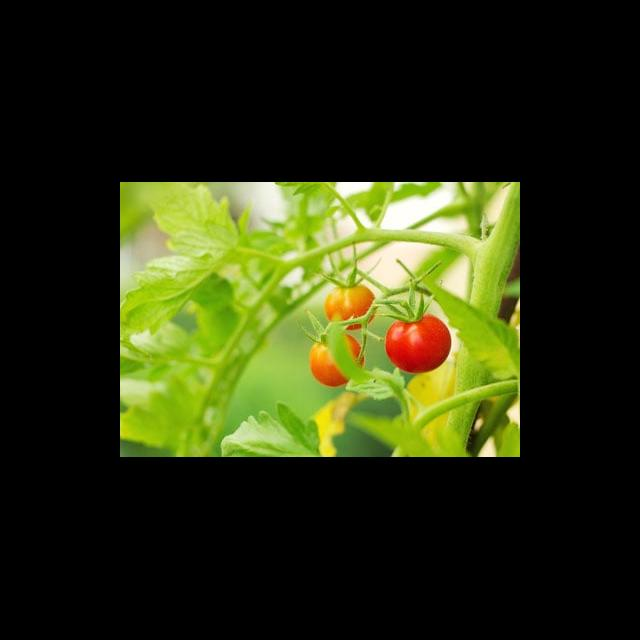tomato: (380, 313, 458, 377), (304, 335, 374, 391), (315, 281, 379, 330)
